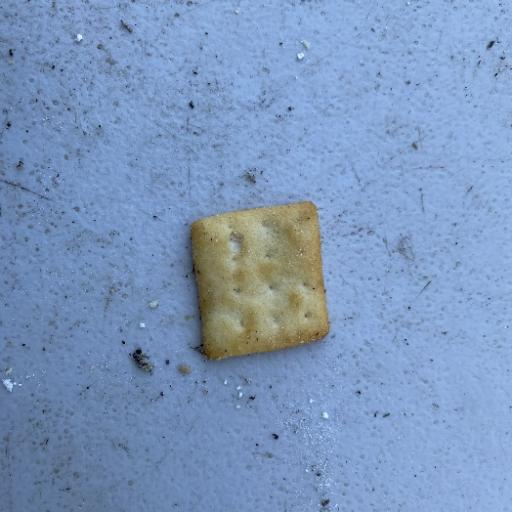Waste: (189, 200, 330, 362)
